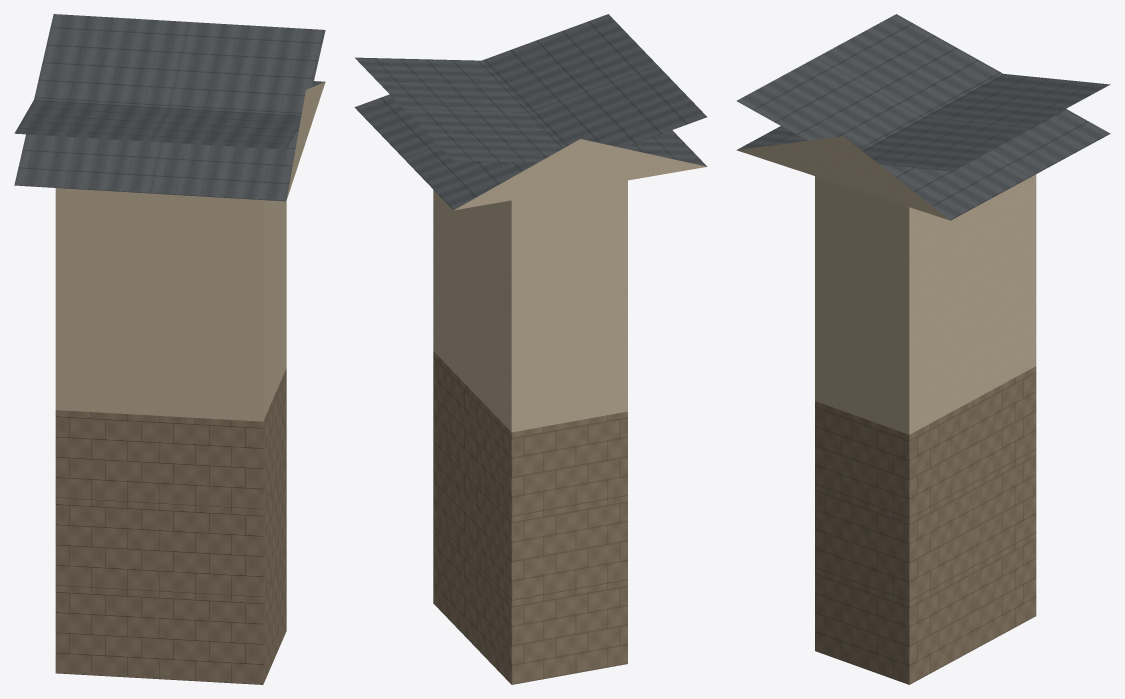
Rendered from bld_c7_33_489.gltf.
3 views of the same model, side by side, from view 1: azimuth 30°, elevation 25°; view 2: azimuth 150°, elevation 25°; view 3: azimuth 270°, elevation 25° (orthographic). The views are drawn at different scales.
Parts seen in each view (by area): view 1: bld_c7_33_489; view 2: bld_c7_33_489; view 3: bld_c7_33_489.
Boxes of the visible parts, x1,y1,x2,y2 form: bld_c7_33_489: [14, 14, 325, 684]; bld_c7_33_489: [354, 14, 707, 684]; bld_c7_33_489: [736, 14, 1110, 684].
Bounding box in the file's own units: 6.86 × 11 × 6.89.
Materials: 4 (4 with a texture image).
